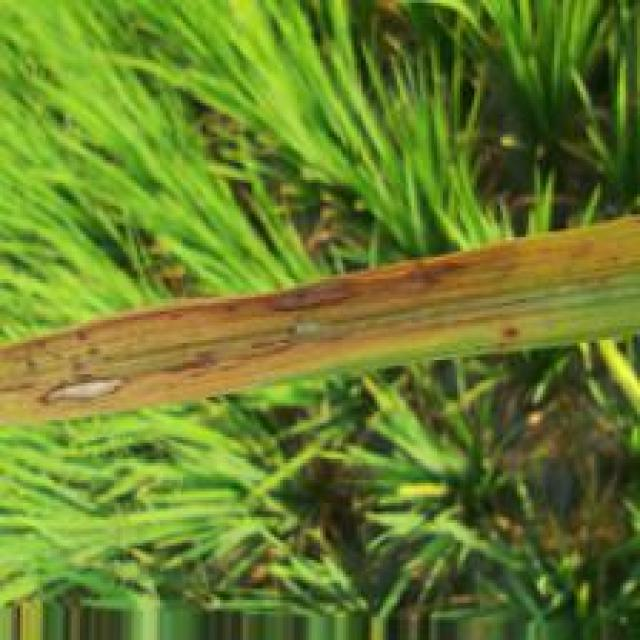Leaf_Blast: (261, 275, 368, 316), (37, 375, 130, 408), (402, 257, 483, 283), (160, 347, 226, 378)
